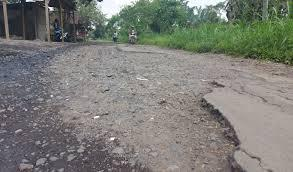Pothole: (9, 32, 293, 172)
